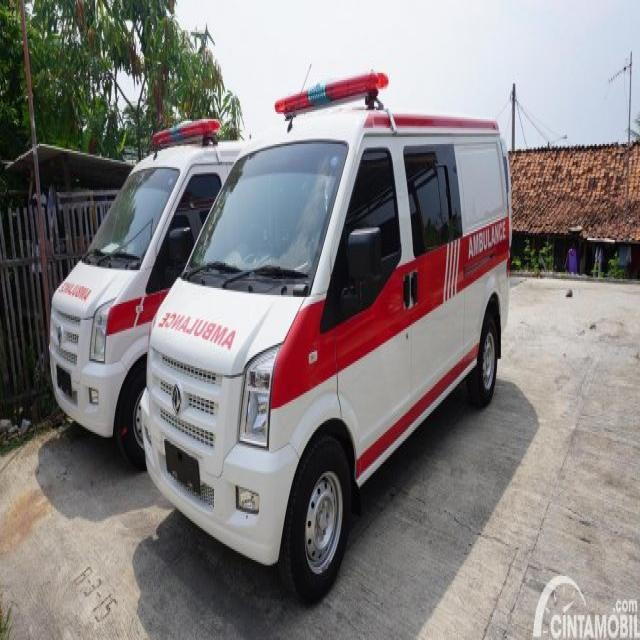ambulance: (137, 71, 512, 608)
